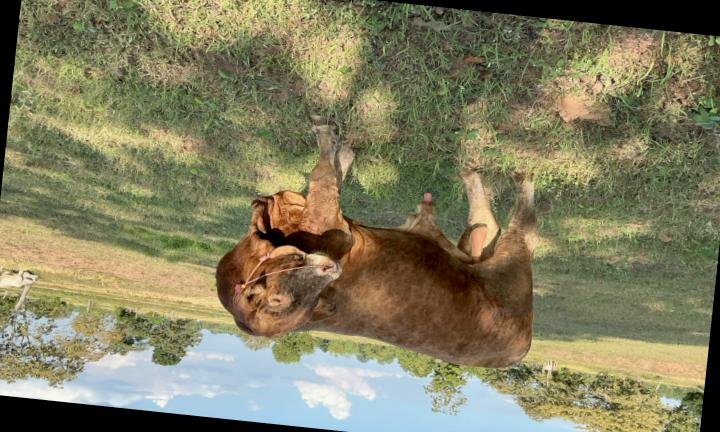Charolais: (215, 117, 537, 368)
